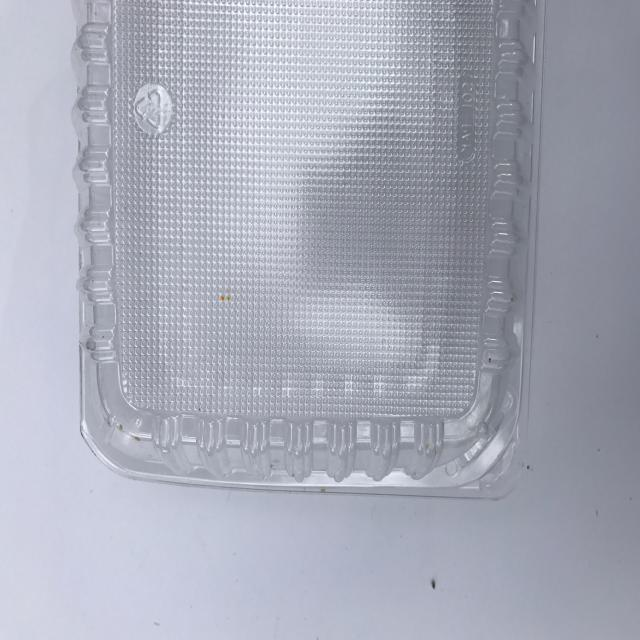plastic: (70, 0, 545, 499)
